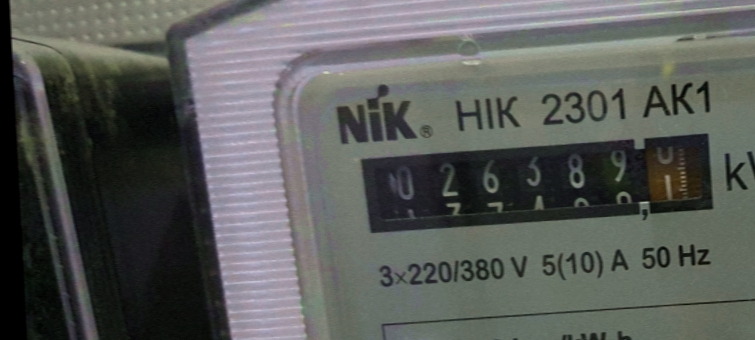0: (391, 161, 417, 202), (655, 143, 674, 165)
1: (660, 170, 675, 202)
2: (435, 158, 461, 198)
3: (523, 153, 542, 188)
6: (480, 155, 500, 195)
8: (565, 150, 587, 189)
9: (608, 147, 628, 182)
screen: (345, 120, 729, 245)
